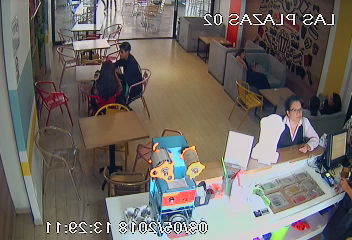libre: (44, 101, 175, 181), (184, 18, 244, 71), (62, 31, 116, 58)
ocupado: (51, 51, 152, 113), (236, 49, 322, 116)
